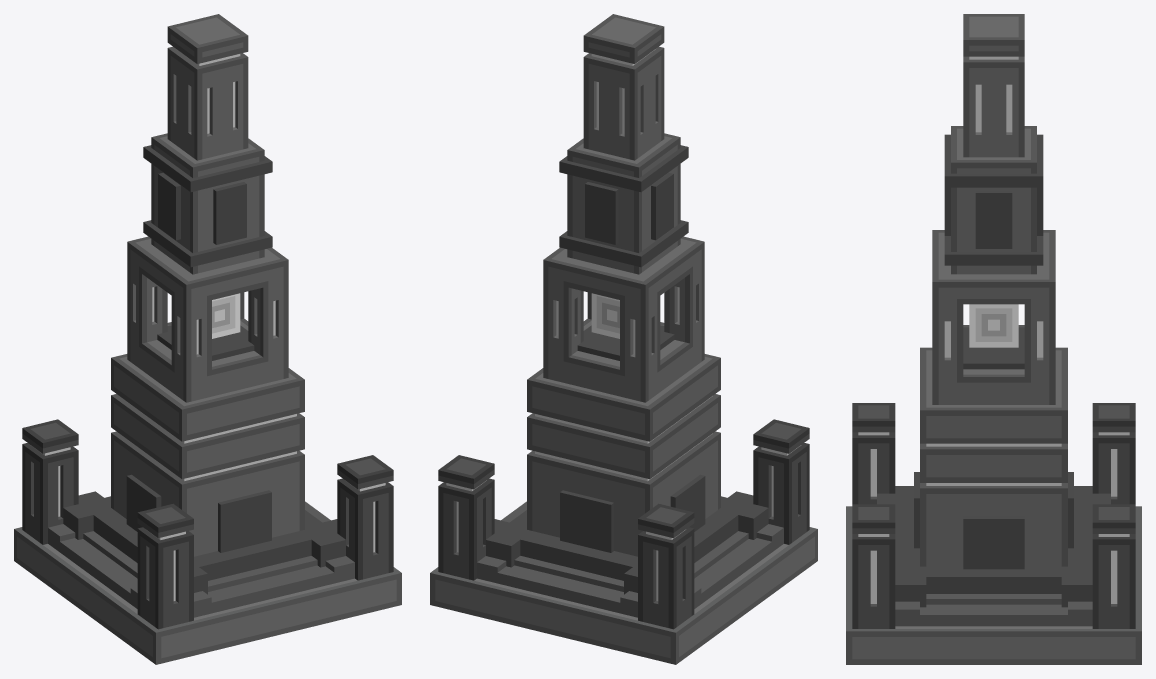
The model's file is Blessing Gem Altar.fbx.
3 renders of one model, left to right at view 1: azimuth 30°, elevation 25°; view 2: azimuth 150°, elevation 25°; view 3: azimuth 270°, elevation 25°, orthographic. The views are drawn at different scales.
Visible parts, largest first — view 1: Blessing Gem Altar, White Gem; view 2: Blessing Gem Altar, White Gem; view 3: Blessing Gem Altar, White Gem.
Boxes of the visible parts, left/top/right/bottom form: Blessing Gem Altar: left=14, top=14, right=401, bottom=664; White Gem: left=212, top=293, right=240, bottom=338; Blessing Gem Altar: left=430, top=14, right=817, bottom=664; White Gem: left=591, top=293, right=619, bottom=338; Blessing Gem Altar: left=846, top=14, right=1141, bottom=664; White Gem: left=969, top=304, right=1018, bottom=347.
Bounding box in the file's own units: 0.96 × 0.96 × 2.06.
Materials: 2 (2 with a texture image).
